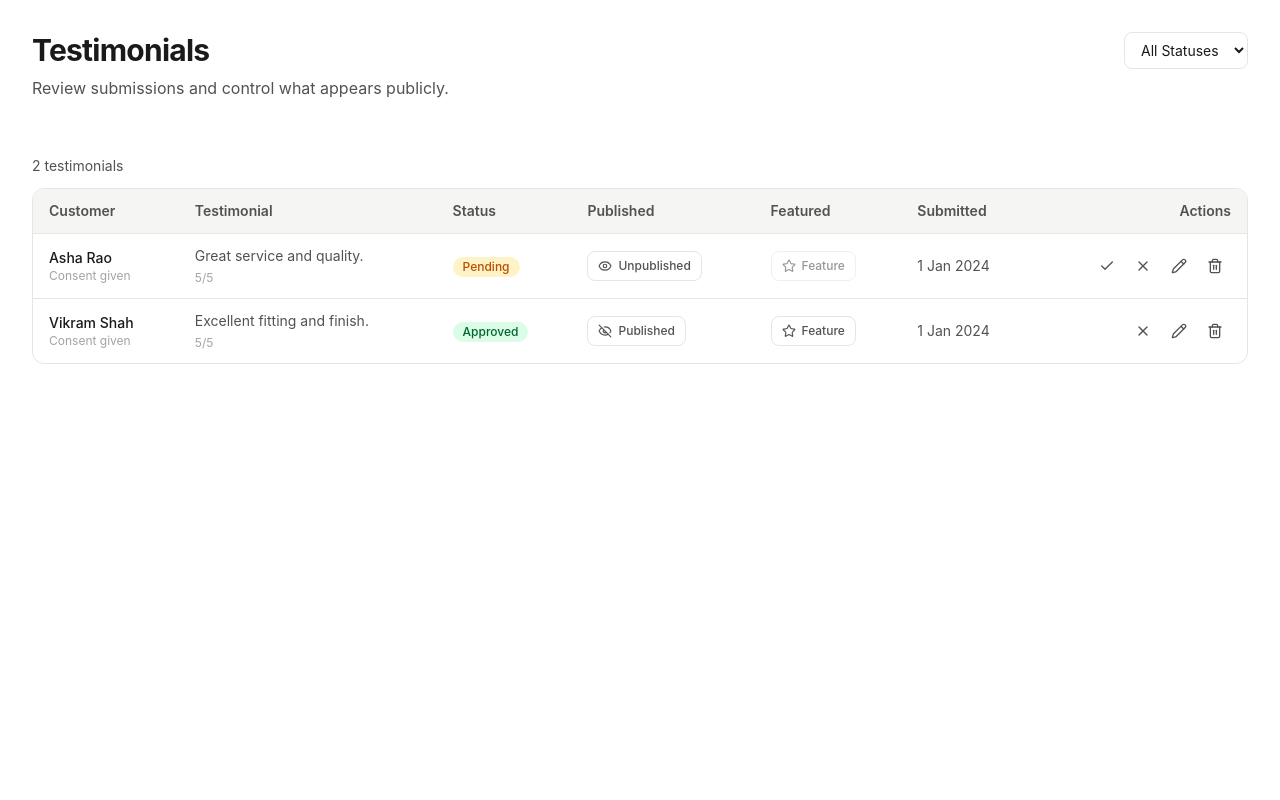
it: TestimonialsAdminPage › deletes a testimonial after confirmation
The image size is (1280, 800).
Expected: the text "Asha Rao" is shown, [49,249,112,266]
Click the button named "delete testimonial from asha rao".
click(1215, 266)  # box [1199,250,1231,282]
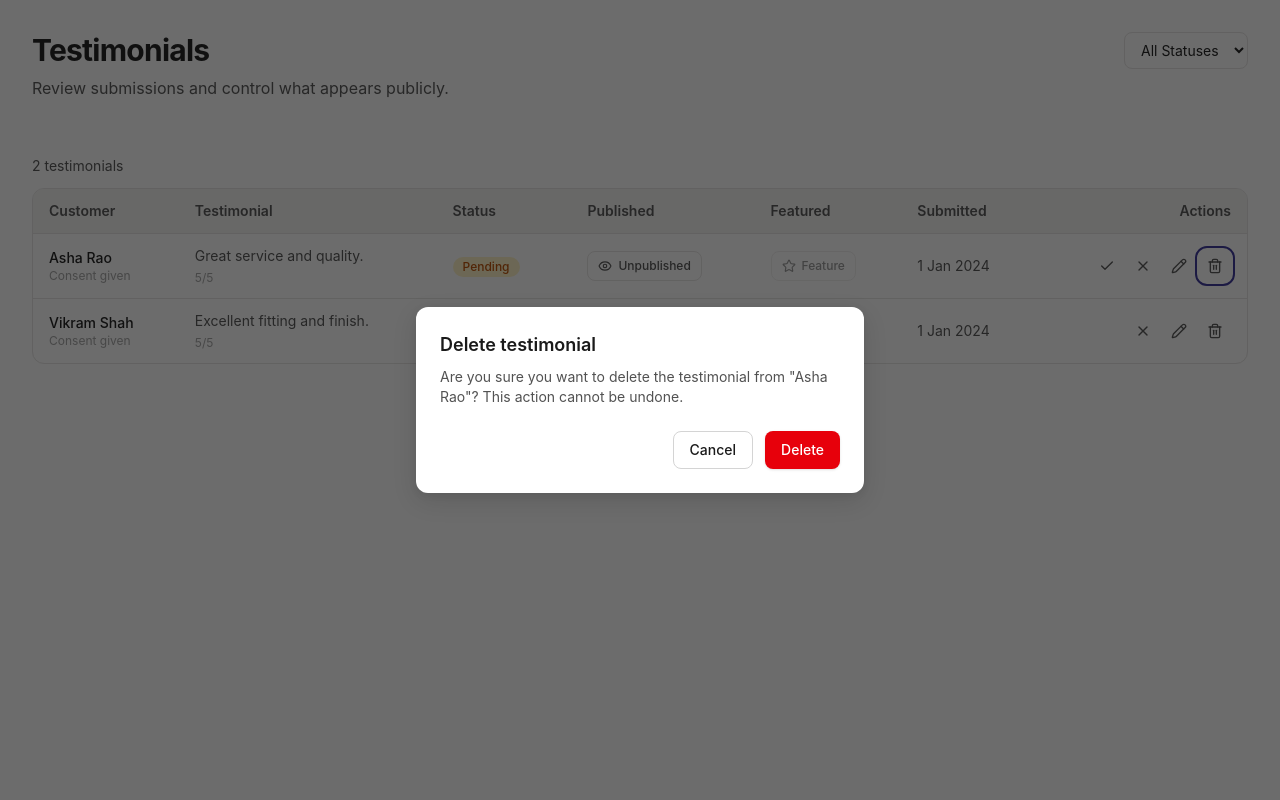
Click the button "Delete".
click(803, 450)  # box [765,431,840,469]
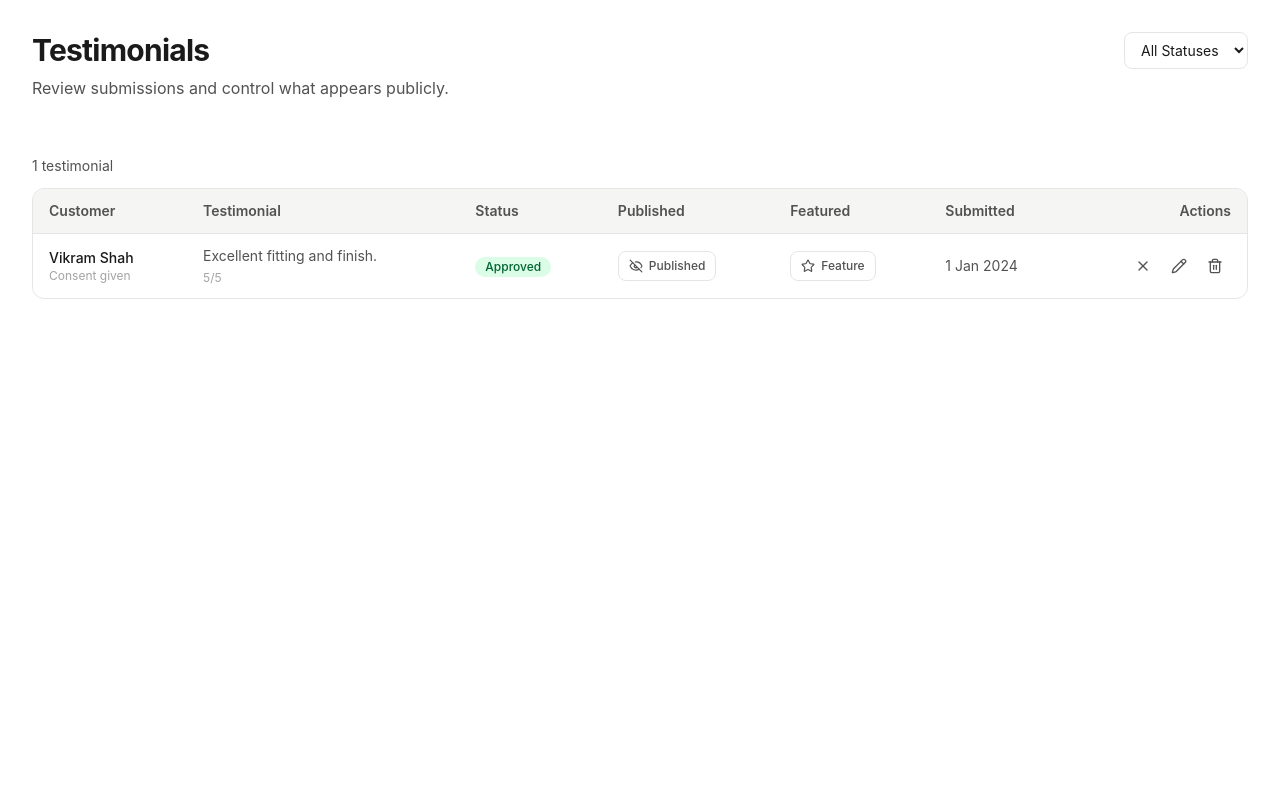
Expected: the text "Vikram Shah" is shown, [49,249,134,266]
Result: the text "Asha Rao" is gone
